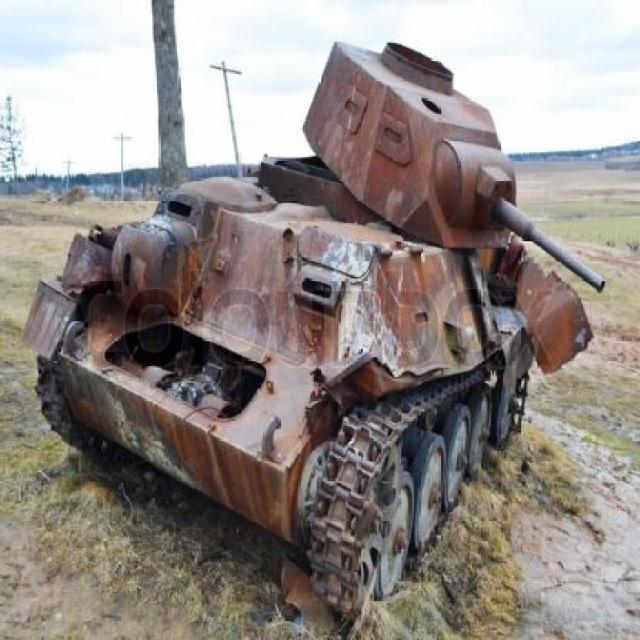corrosion: (26, 41, 609, 622)
